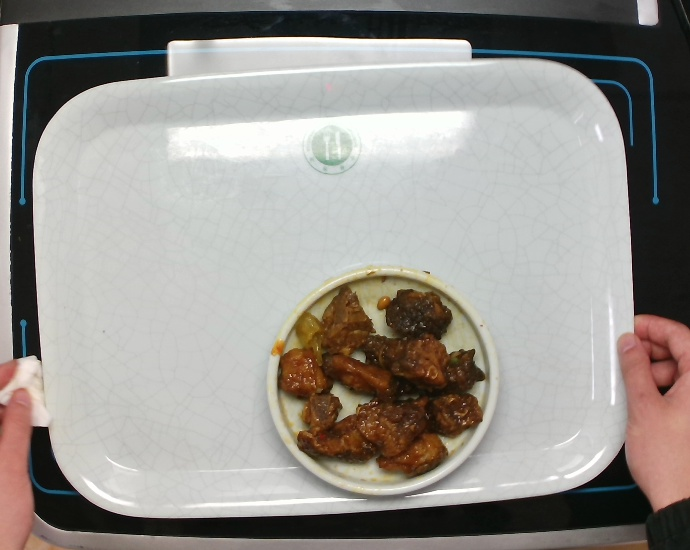JYsf-Xiao_Yuan_Pan: (264, 264, 503, 497)
